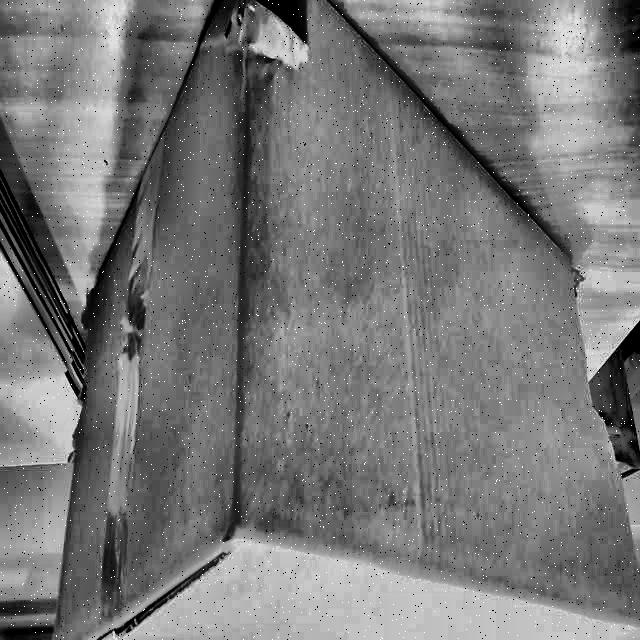box: (45, 1, 639, 640)
hole: (568, 268, 638, 476), (229, 0, 308, 58)
